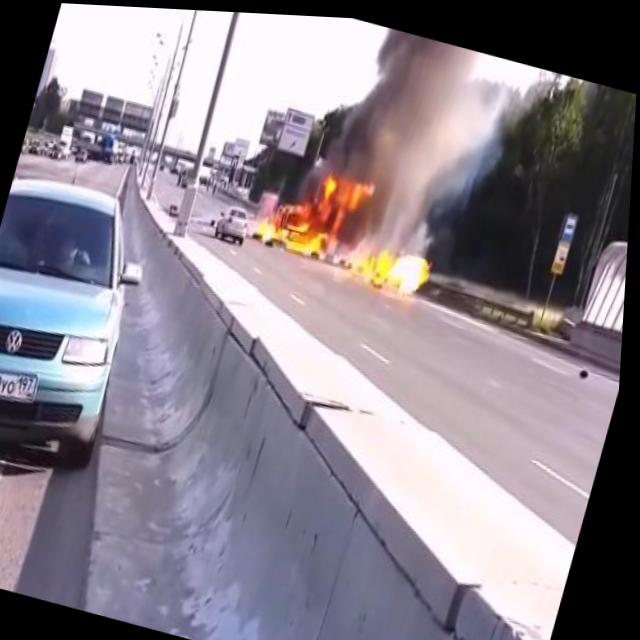fire: (251, 154, 455, 300)
